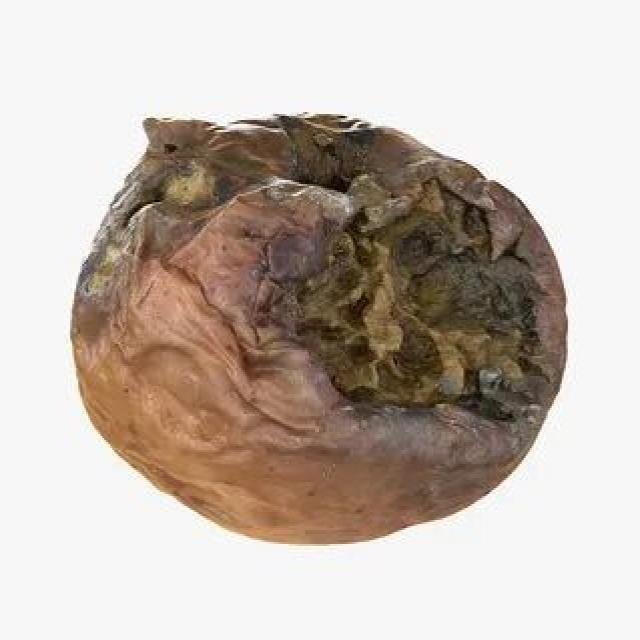Rotten: (57, 115, 575, 560)
